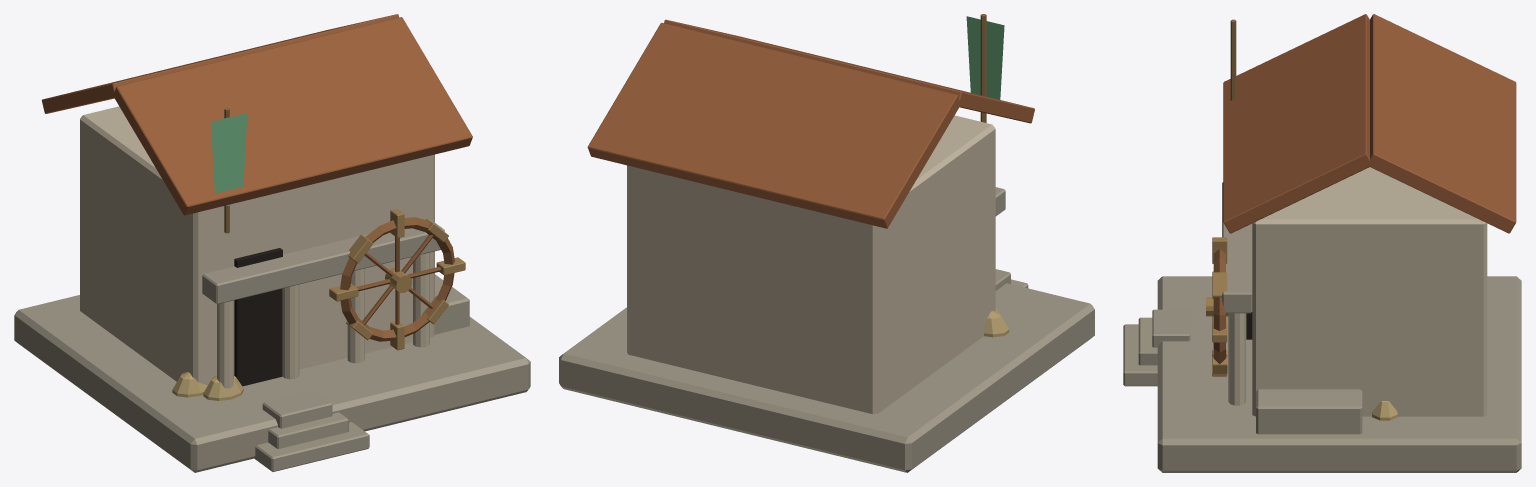
Rendered from edificio-farm-e1-BVfru7bw.glb.
3 renders of one model, left to right at view 1: azimuth 30°, elevation 25°; view 2: azimuth 150°, elevation 25°; view 3: azimuth 270°, elevation 25°, orthographic. The views are drawn at different scales.
Parts seen in each view (by area): view 1: molino_e1_envolvente, rotor_molino, molino_e1_team_color; view 2: molino_e1_envolvente, molino_e1_team_color; view 3: molino_e1_envolvente, rotor_molino.
Boxes of the visible parts, x1,y1,x2,y2 form: molino_e1_envolvente: (14, 14, 530, 472); rotor_molino: (329, 208, 465, 350); molino_e1_team_color: (211, 113, 247, 205); molino_e1_envolvente: (559, 14, 1094, 472); molino_e1_team_color: (966, 16, 1004, 99); molino_e1_envolvente: (1123, 14, 1521, 472); rotor_molino: (1206, 237, 1228, 376).
Bounding box in the file's own units: 52 × 47 × 52.5.
